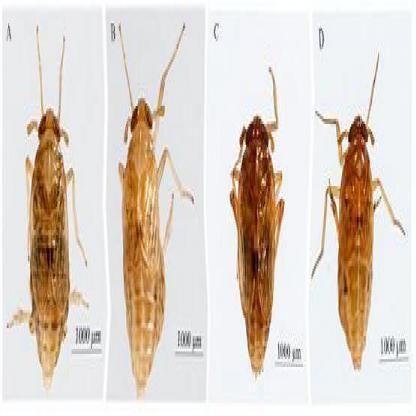brown-planthopper: (120, 82, 167, 384), (26, 80, 72, 386), (235, 93, 278, 382), (333, 95, 376, 375)
